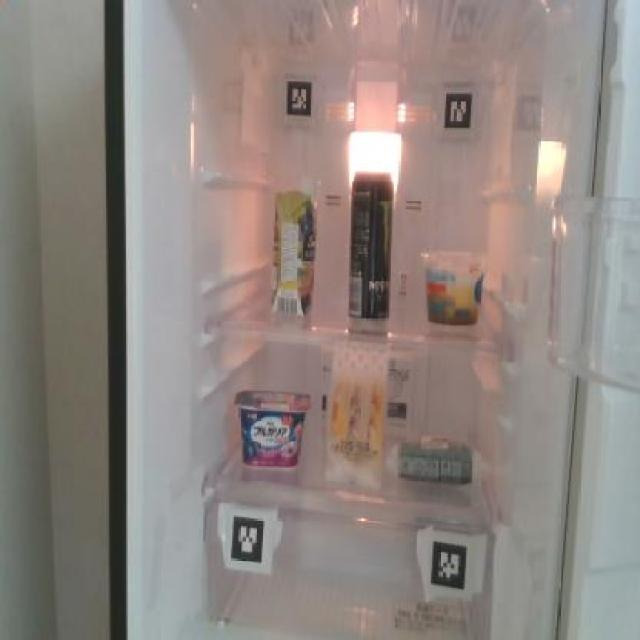can: (346, 166, 394, 323)
pudding: (422, 248, 486, 326)
rice_ball: (391, 432, 484, 490)
sandwich: (325, 346, 387, 491)
smoothie: (270, 176, 319, 318)
yogurt: (230, 386, 312, 468)
